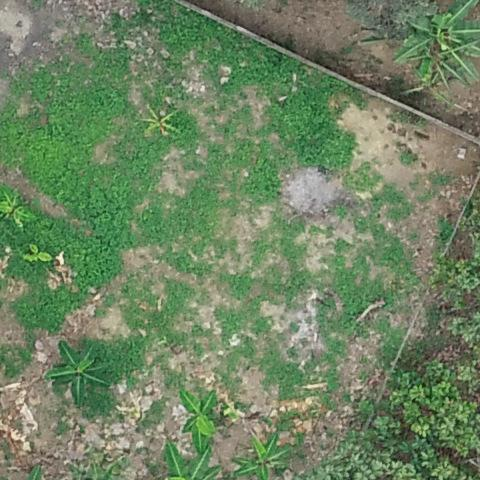Banana-plant: (390, 1, 480, 91), (41, 339, 112, 399), (172, 378, 226, 449), (236, 429, 294, 480), (140, 97, 186, 148), (0, 186, 34, 238), (22, 241, 57, 271)
